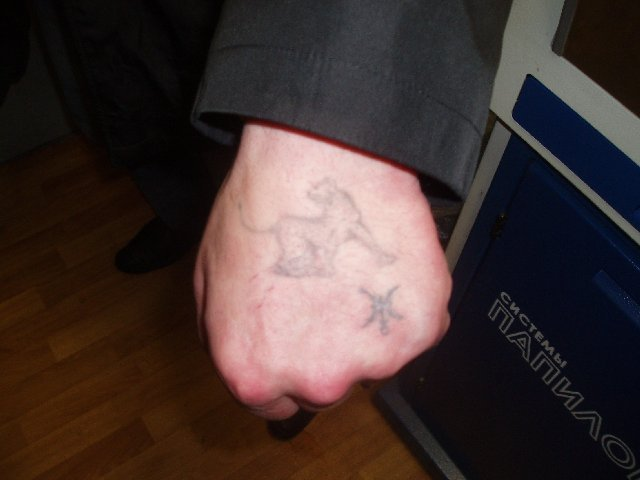tatu8_kot: (236, 173, 416, 277)
